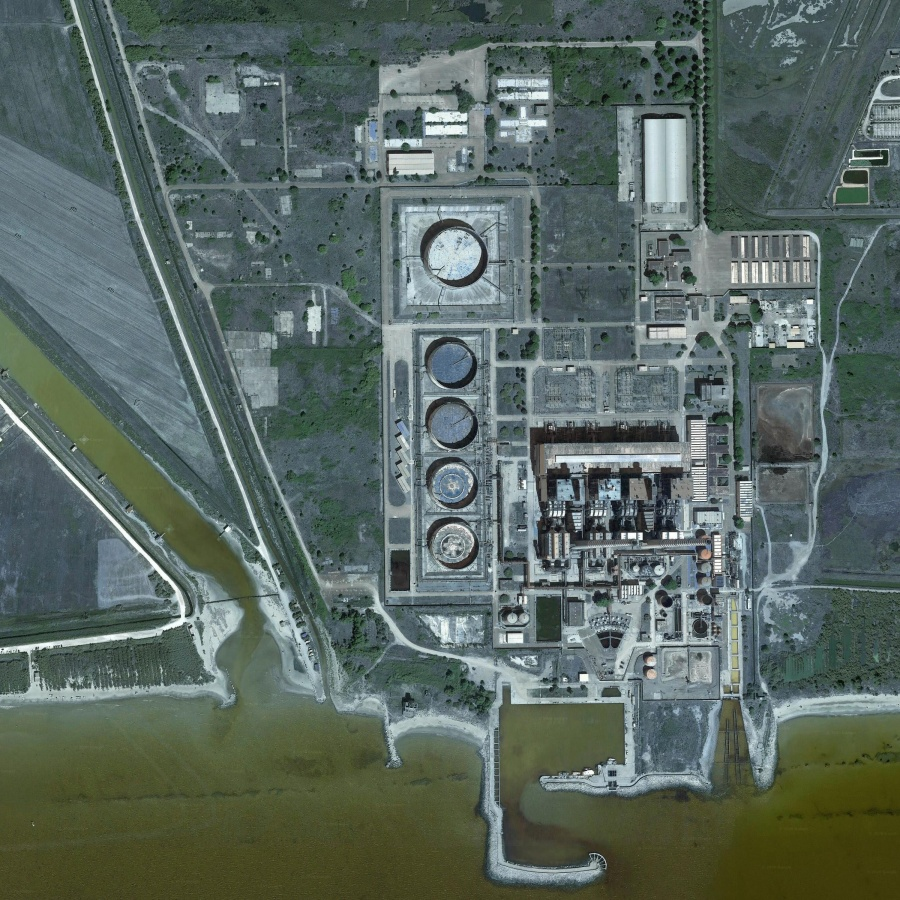PowerPlant: (377, 188, 526, 603)
